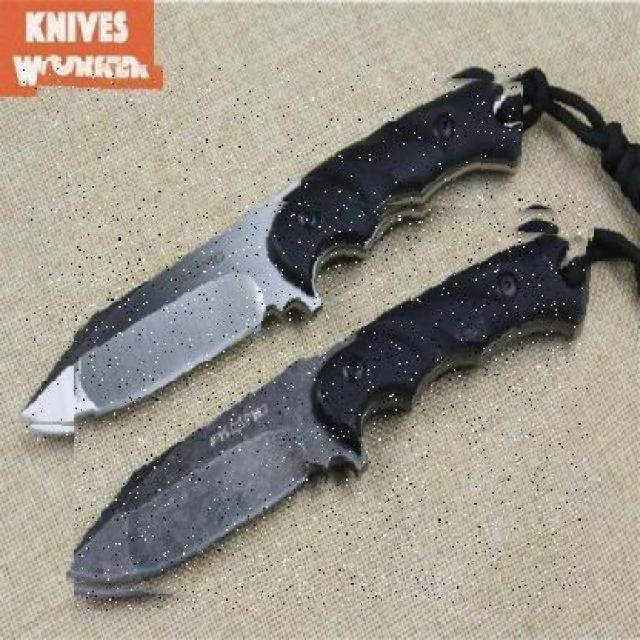knife: (74, 195, 588, 611), (23, 65, 520, 442)
